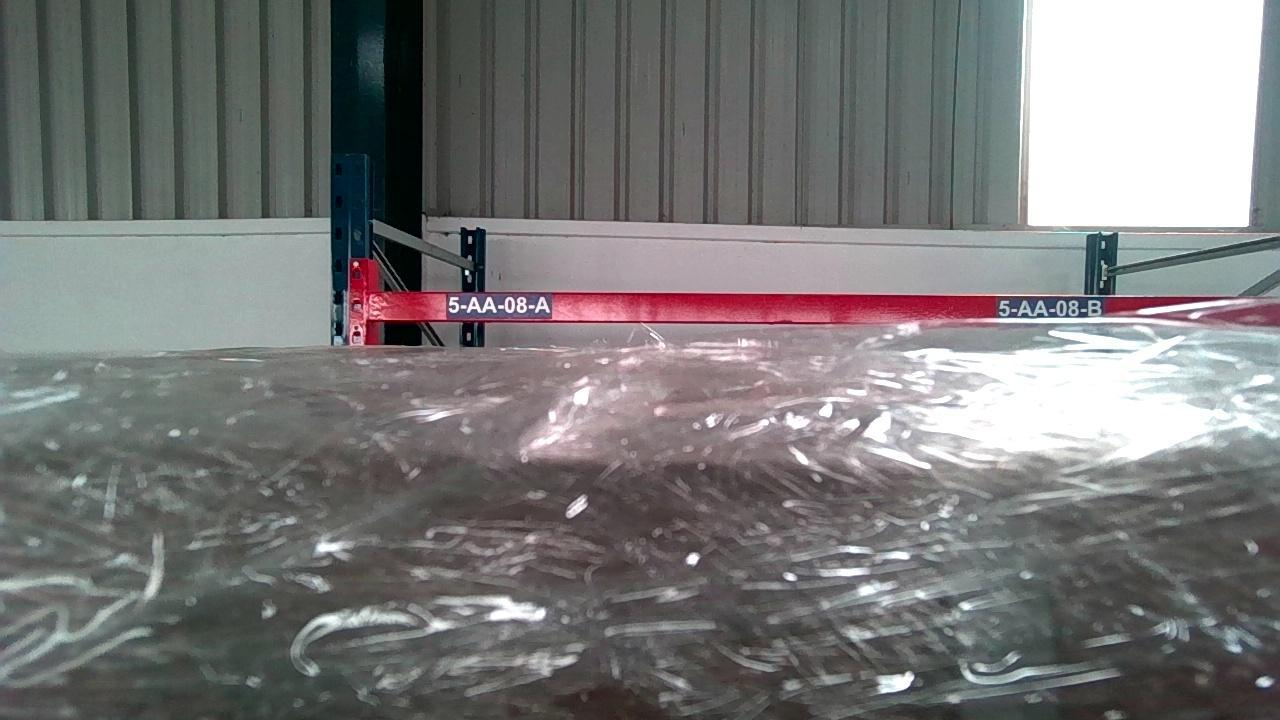h_rack: (375, 294, 1275, 321)
